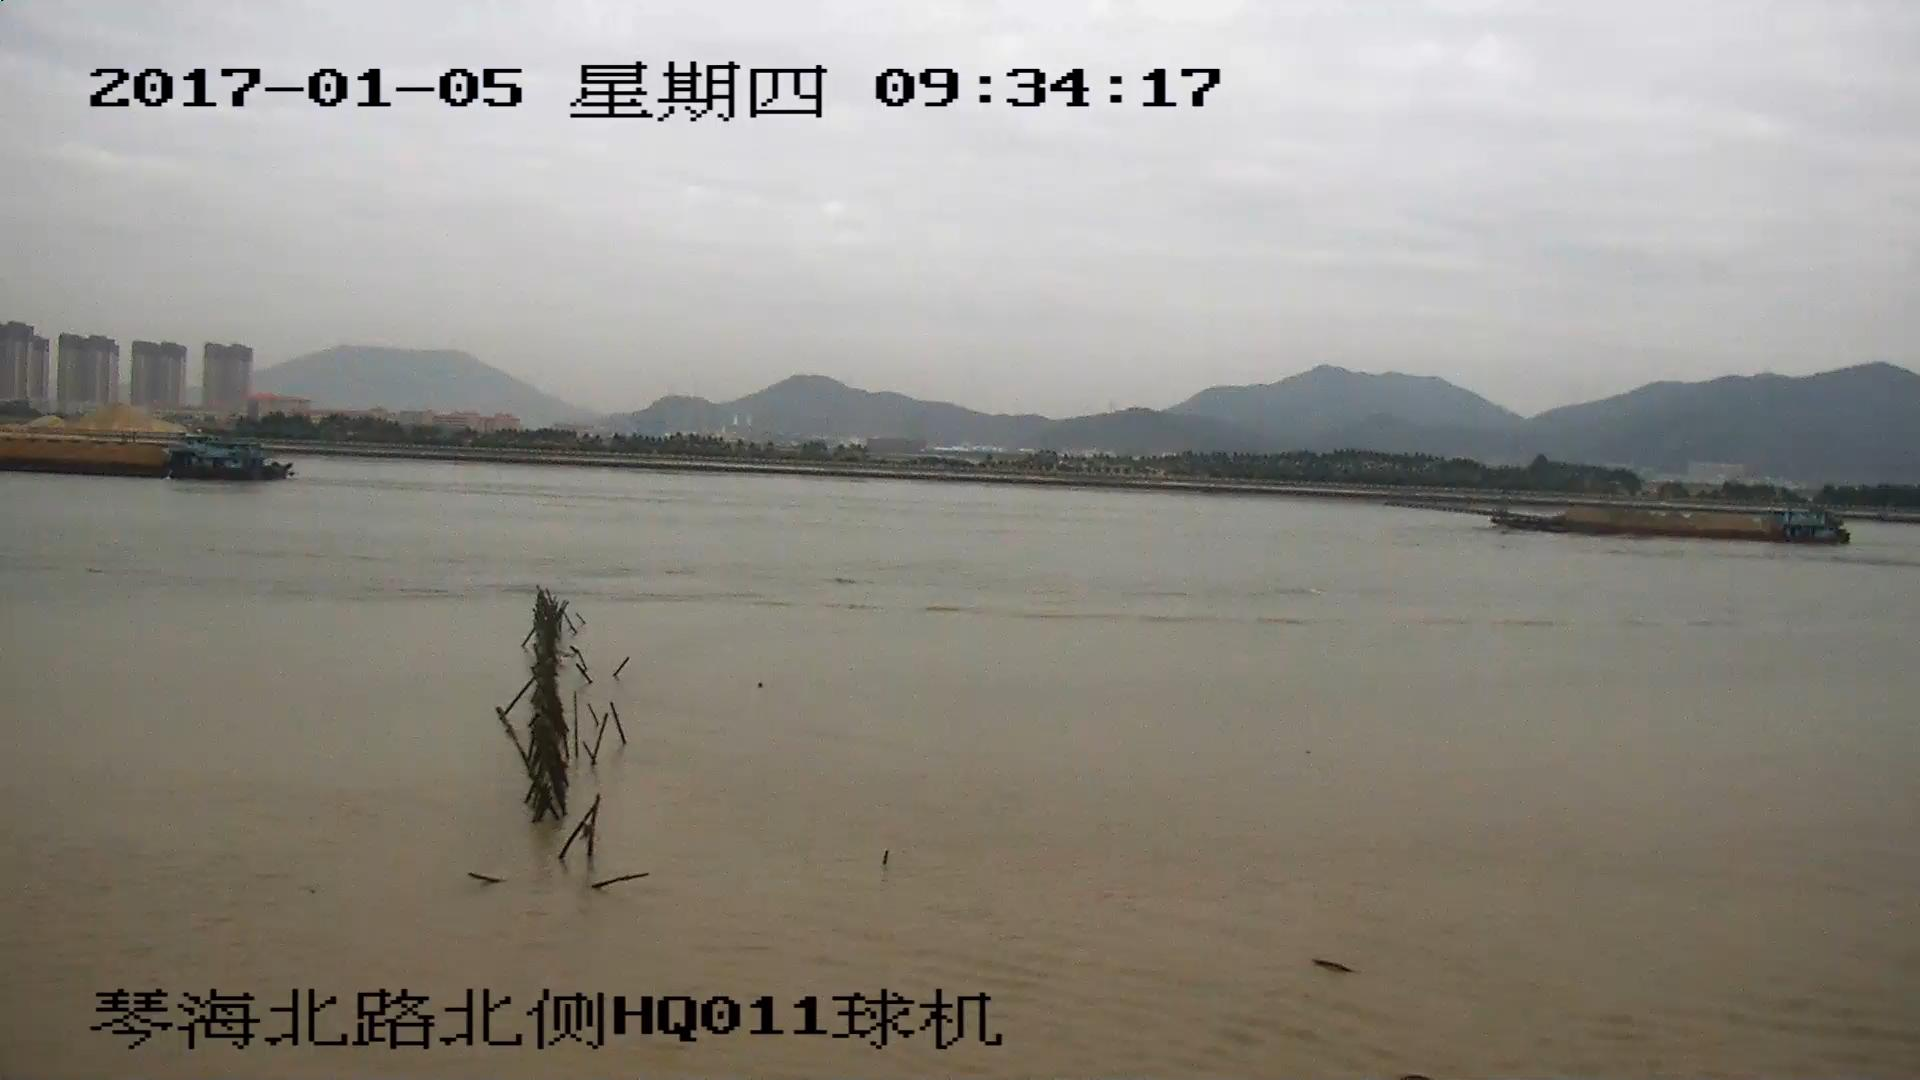ore carrier: (1388, 496, 1852, 542), (1, 443, 288, 476)
